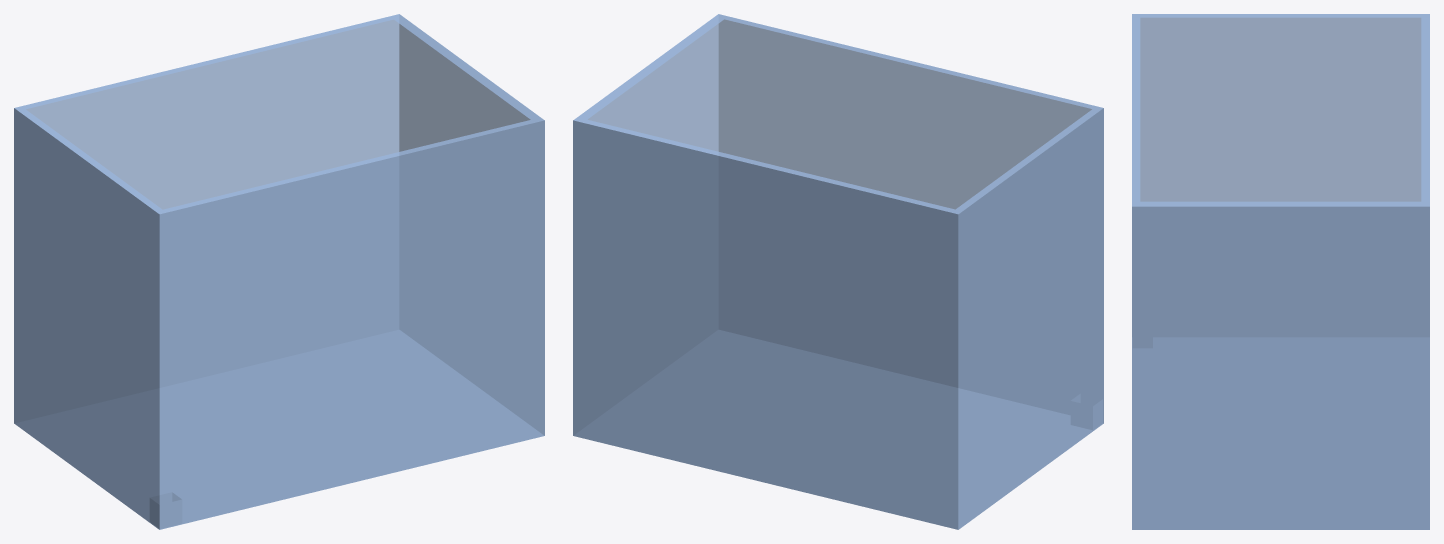
The model's file is glass1.dae.
3 renders of one model, left to right at view 1: azimuth 30°, elevation 25°; view 2: azimuth 150°, elevation 25°; view 3: azimuth 270°, elevation 25°, orthographic. The views are drawn at different scales.
Visible parts, largest first — view 1: box, box.001; view 2: box, box.001; view 3: box, box.001.
Part boxes in pixels (bbox=[...]): box: bbox=[14, 14, 544, 529]; box.001: bbox=[150, 493, 181, 528]; box: bbox=[573, 14, 1103, 529]; box.001: bbox=[1071, 394, 1102, 429]; box: bbox=[1132, 14, 1429, 529]; box.001: bbox=[1133, 313, 1152, 347].
Bounding box in the file's own units: 1.47 × 0.9604 × 1.15.
